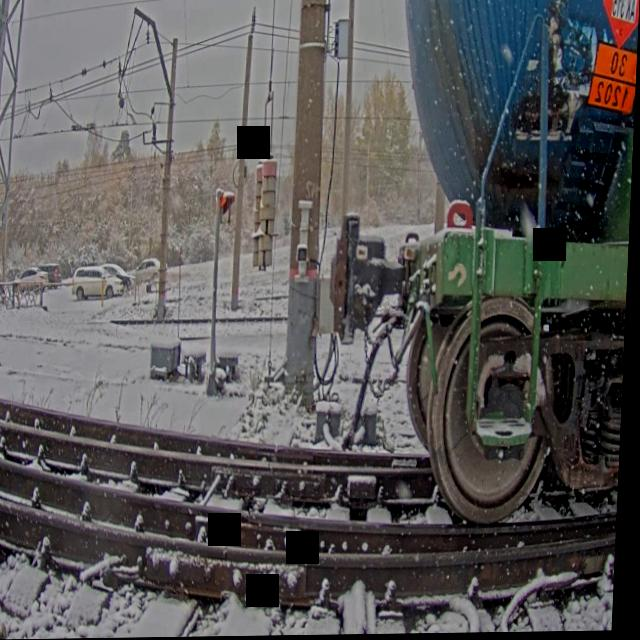tank: (293, 0, 640, 595)
